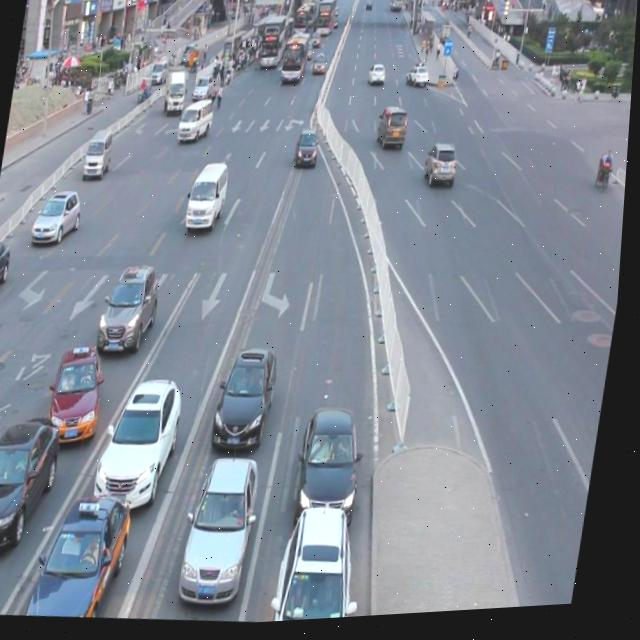car: (31, 482, 143, 624), (182, 447, 271, 610), (96, 370, 193, 515), (278, 498, 376, 625), (0, 406, 71, 558), (297, 399, 375, 526), (214, 341, 287, 455), (98, 256, 169, 359), (49, 339, 115, 449), (32, 185, 87, 249), (424, 146, 461, 194), (294, 130, 322, 174), (0, 237, 17, 303), (0, 541, 4, 615)
truck: (186, 161, 233, 234), (177, 99, 216, 146), (84, 127, 117, 181)
